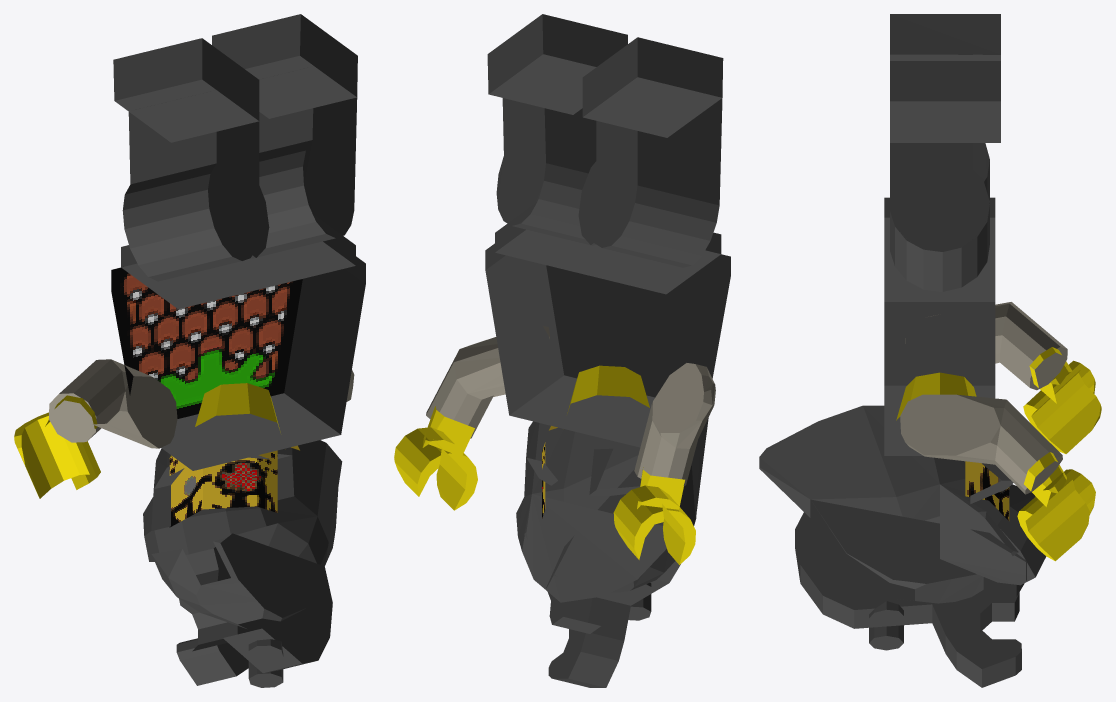
File: minifiggilbertbad00.glb
3 views of the same model, side by side, from view 1: azimuth 30°, elevation 25°; view 2: azimuth 150°, elevation 25°; view 3: azimuth 270°, elevation 25° (orthographic). The views are drawn at different scales.
Visible parts, largest first — view 1: 020_Minifig_2_-_Head_Cedric_89, 018_Minifig_2_-_Body_No_code_BK, 015_Minifig_2_-_Leg_Rt_No_tex_BK, 011_Minifig_2_-_Leg_Lt_No_tex_BK, 017_Minifig_2_-_Foot_Right_BK, 013_Minifig_2_-_Foot_Left_BK, 023_Minifig_2_-_Arm_Rt_GD, 008_Minifig_2_-_Hips_BK, 027_Minifig_2_-_Hand_YE; view 2: 018_Minifig_2_-_Body_No_code_BK, 020_Minifig_2_-_Head_Cedric_89, 015_Minifig_2_-_Leg_Rt_No_tex_BK, 011_Minifig_2_-_Leg_Lt_No_tex_BK, 017_Minifig_2_-_Foot_Right_BK, 013_Minifig_2_-_Foot_Left_BK, 008_Minifig_2_-_Hips_BK, 023_Minifig_2_-_Arm_Rt_GD, 033_Minifig_2_-_Hand_YE, 027_Minifig_2_-_Hand_YE, 029_Minifig_2_-_Arm_Lt_GD; view 3: 020_Minifig_2_-_Head_Cedric_89, 011_Minifig_2_-_Leg_Lt_No_tex_BK, 018_Minifig_2_-_Body_No_code_BK, 029_Minifig_2_-_Arm_Lt_GD, 013_Minifig_2_-_Foot_Left_BK, 033_Minifig_2_-_Hand_YE, 017_Minifig_2_-_Foot_Right_BK, 027_Minifig_2_-_Hand_YE, 023_Minifig_2_-_Arm_Rt_GD, 008_Minifig_2_-_Hips_BK, 015_Minifig_2_-_Leg_Rt_No_tex_BK.
Boxes of the visible parts, left/top/right/bottom form: 020_Minifig_2_-_Head_Cedric_89: left=143, top=383, right=342, bottom=687; 018_Minifig_2_-_Body_No_code_BK: left=111, top=256, right=365, bottom=470; 015_Minifig_2_-_Leg_Rt_No_tex_BK: left=122, top=91, right=259, bottom=281; 011_Minifig_2_-_Leg_Lt_No_tex_BK: left=251, top=67, right=357, bottom=258; 017_Minifig_2_-_Foot_Right_BK: left=113, top=38, right=259, bottom=142; 013_Minifig_2_-_Foot_Left_BK: left=212, top=14, right=357, bottom=118; 023_Minifig_2_-_Arm_Rt_GD: left=48, top=359, right=177, bottom=448; 008_Minifig_2_-_Hips_BK: left=121, top=186, right=355, bottom=309; 027_Minifig_2_-_Hand_YE: left=14, top=395, right=100, bottom=498; 018_Minifig_2_-_Body_No_code_BK: left=485, top=243, right=730, bottom=447; 020_Minifig_2_-_Head_Cedric_89: left=516, top=365, right=708, bottom=687; 015_Minifig_2_-_Leg_Rt_No_tex_BK: left=588, top=77, right=722, bottom=267; 011_Minifig_2_-_Leg_Lt_No_tex_BK: left=496, top=55, right=596, bottom=245; 017_Minifig_2_-_Foot_Right_BK: left=582, top=37, right=723, bottom=137; 013_Minifig_2_-_Foot_Left_BK: left=487, top=14, right=627, bottom=114; 008_Minifig_2_-_Hips_BK: left=495, top=161, right=721, bottom=294; 023_Minifig_2_-_Arm_Rt_GD: left=634, top=363, right=715, bottom=485; 033_Minifig_2_-_Hand_YE: left=394, top=406, right=477, bottom=510; 027_Minifig_2_-_Hand_YE: left=613, top=467, right=695, bottom=564; 029_Minifig_2_-_Arm_Lt_GD: left=426, top=326, right=549, bottom=438; 020_Minifig_2_-_Head_Cedric_89: left=759, top=372, right=1046, bottom=687; 011_Minifig_2_-_Leg_Lt_No_tex_BK: left=890, top=101, right=989, bottom=291; 018_Minifig_2_-_Body_No_code_BK: left=884, top=302, right=995, bottom=455; 029_Minifig_2_-_Arm_Lt_GD: left=900, top=394, right=1062, bottom=494; 013_Minifig_2_-_Foot_Left_BK: left=890, top=61, right=1000, bottom=142; 033_Minifig_2_-_Hand_YE: left=1017, top=452, right=1095, bottom=561; 017_Minifig_2_-_Foot_Right_BK: left=890, top=14, right=1000, bottom=60; 027_Minifig_2_-_Hand_YE: left=1023, top=347, right=1101, bottom=453; 023_Minifig_2_-_Arm_Rt_GD: left=905, top=302, right=1067, bottom=390; 008_Minifig_2_-_Hips_BK: left=884, top=170, right=995, bottom=301; 015_Minifig_2_-_Leg_Rt_No_tex_BK: left=958, top=54, right=989, bottom=200.
Bounding box in the file's own units: 2.36 × 4.93 × 2.47.
Materials: 5 (2 with a texture image).
